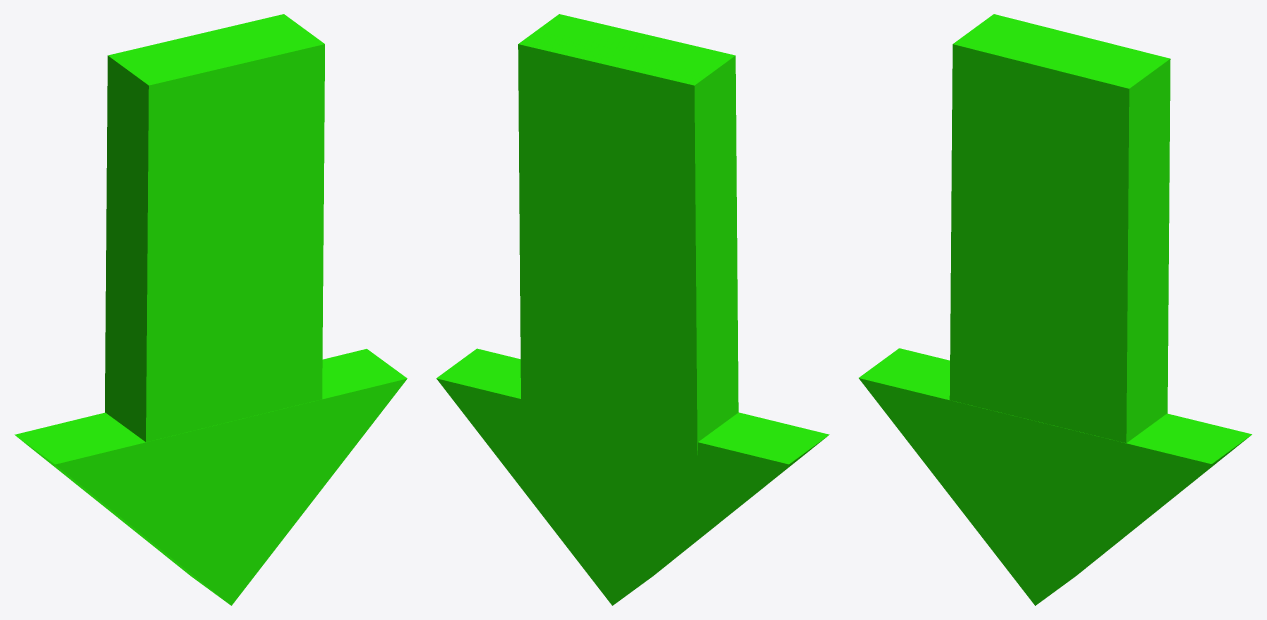
File: arrow.fbx
3 views of the same model, side by side, from view 1: azimuth 30°, elevation 25°; view 2: azimuth 150°, elevation 25°; view 3: azimuth 330°, elevation 25° (orthographic).
Parts seen in each view (by area): view 1: Box, Box1; view 2: Box, Box1; view 3: Box, Box1.
Part boxes in pixels (x1,y1,x2,y2): Box: (105, 14, 324, 441); Box1: (14, 349, 407, 605); Box: (518, 14, 738, 455); Box1: (436, 348, 829, 605); Box: (949, 14, 1170, 443); Box1: (859, 348, 1251, 605).
Bounding box in the file's own units: 1 × 1.47 × 0.2026.
